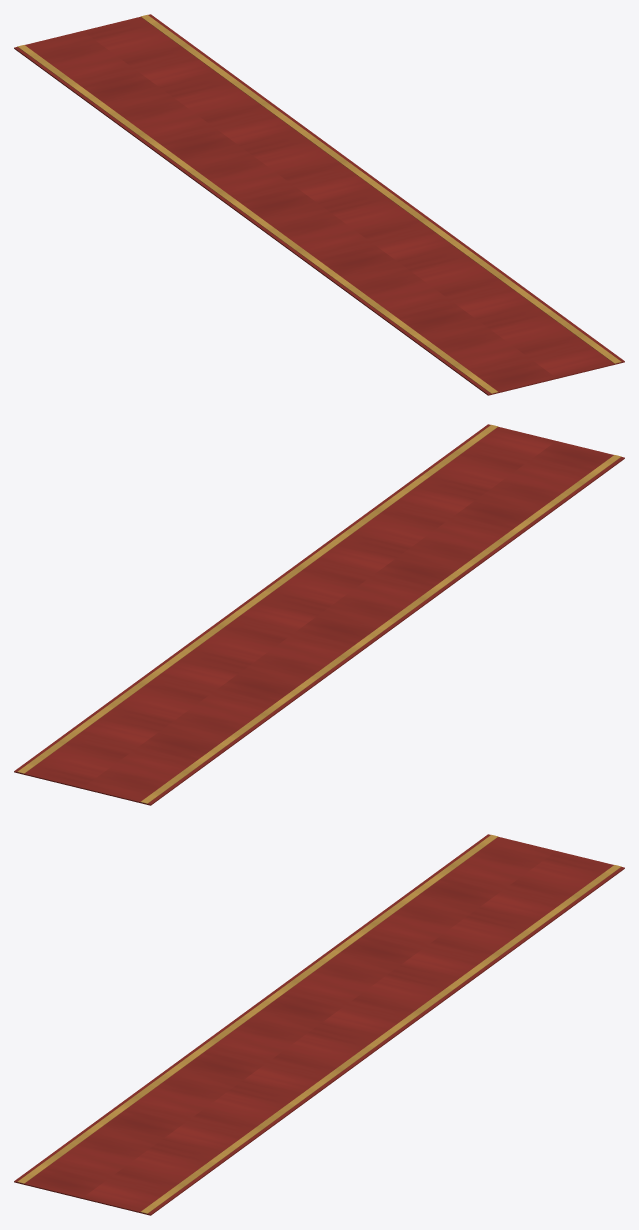
The model's file is Carpet_Runner_1.gltf.
The picture shows the model from 3 angles, top to bottom: view 1: azimuth 30°, elevation 25°; view 2: azimuth 150°, elevation 25°; view 3: azimuth 330°, elevation 25°; orthographic projection.
Parts seen in each view (by area): view 1: Carpet_Runner_1; view 2: Carpet_Runner_1; view 3: Carpet_Runner_1.
Boxes of the visible parts, left/top/right/bottom form: Carpet_Runner_1: left=14, top=14, right=624, bottom=395; Carpet_Runner_1: left=14, top=424, right=624, bottom=805; Carpet_Runner_1: left=14, top=834, right=624, bottom=1215.
Size of the model in its own units: 2 by 0.02 by 12.
Materials: 2 (2 with a texture image).
